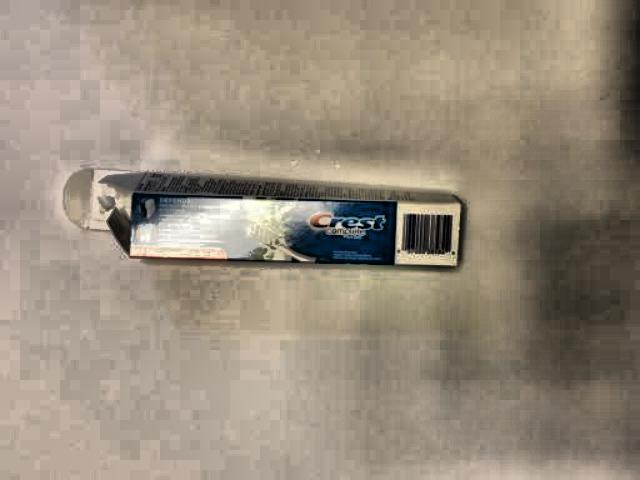Paper: (57, 164, 469, 293)
